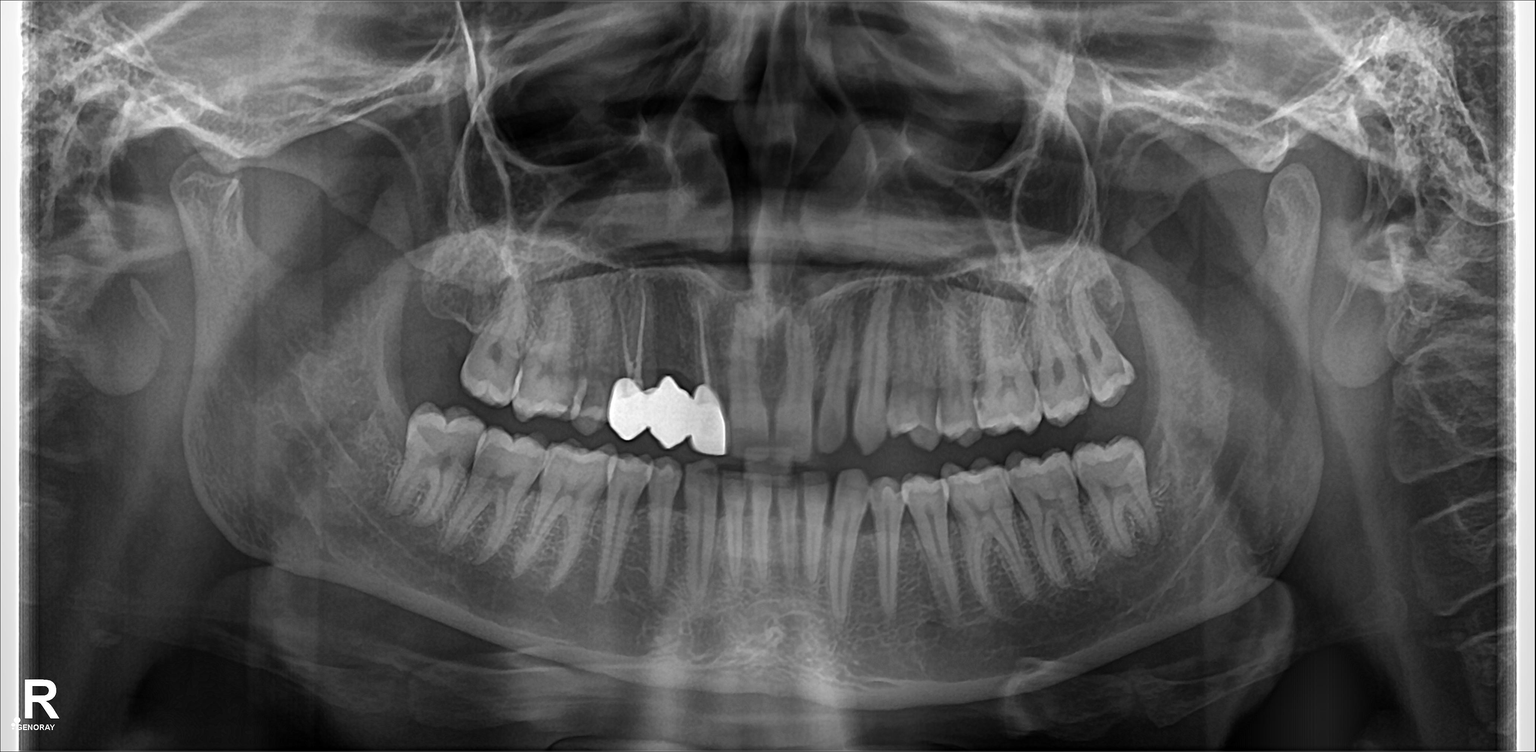Endodontically Treated Tooth: (611, 305, 657, 434), (691, 307, 731, 454), (656, 302, 687, 439)
Missing Tooth: (413, 255, 474, 377)
